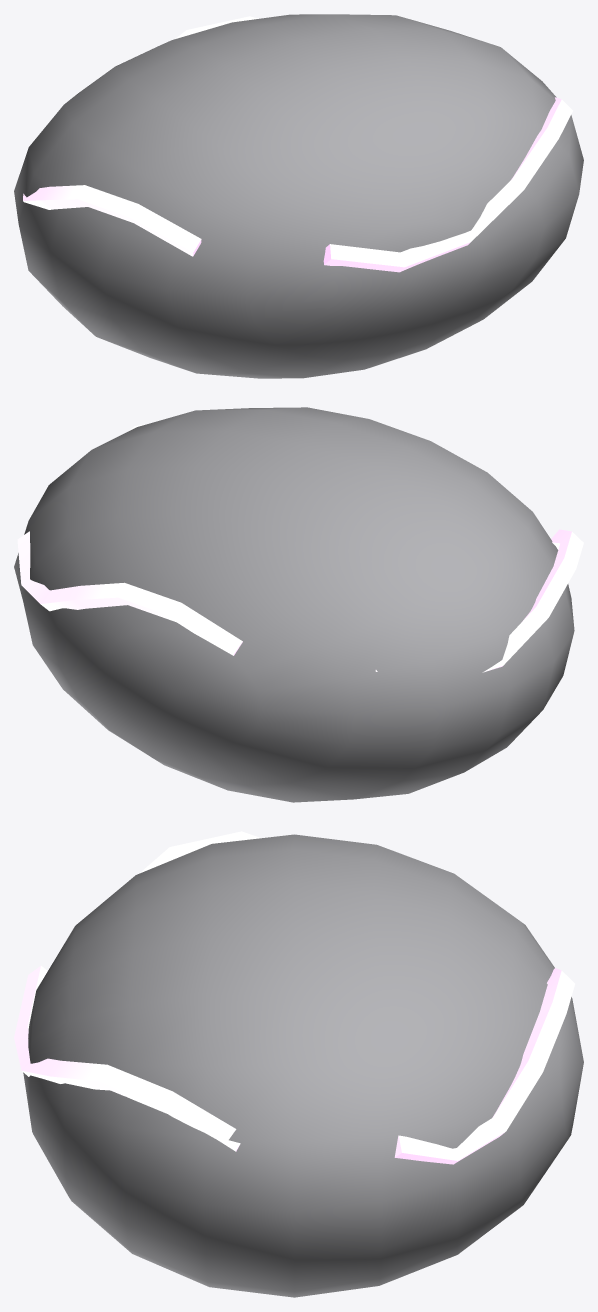
File: art_featherstone.glb
3 renders of one model, top to bottom at view 1: azimuth 30°, elevation 25°; view 2: azimuth 150°, elevation 25°; view 3: azimuth 270°, elevation 25°, orthographic. The views are drawn at different scales.
Visible parts, largest first — view 1: body; view 2: body; view 3: body.
Boxes of the visible parts, bbox=[...] form: body: bbox=[14, 14, 583, 378]; body: bbox=[14, 407, 583, 802]; body: bbox=[14, 831, 583, 1297].
Bounding box in the file's own units: 0.0356 × 0.0207 × 0.0293.
